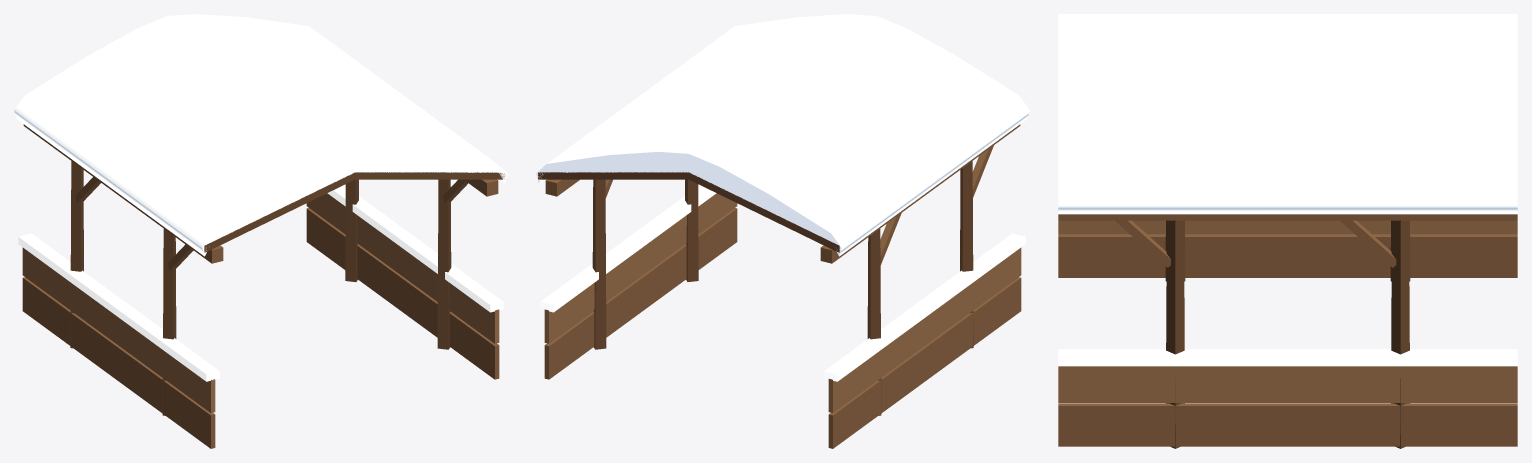
Rendered from snow-shed.glb.
The picture shows the model from 3 angles, left to right: view 1: azimuth 30°, elevation 25°; view 2: azimuth 150°, elevation 25°; view 3: azimuth 270°, elevation 25°; orthographic projection. The views are drawn at different scales.
Visible parts, largest first — view 1: snow-shed; view 2: snow-shed; view 3: snow-shed.
Boxes of the visible parts, bbox=[...] form: snow-shed: bbox=[14, 14, 507, 448]; snow-shed: bbox=[536, 14, 1029, 448]; snow-shed: bbox=[1058, 14, 1517, 448].
Bounding box in the file's own units: 9.56 × 7.82 × 10.2.
